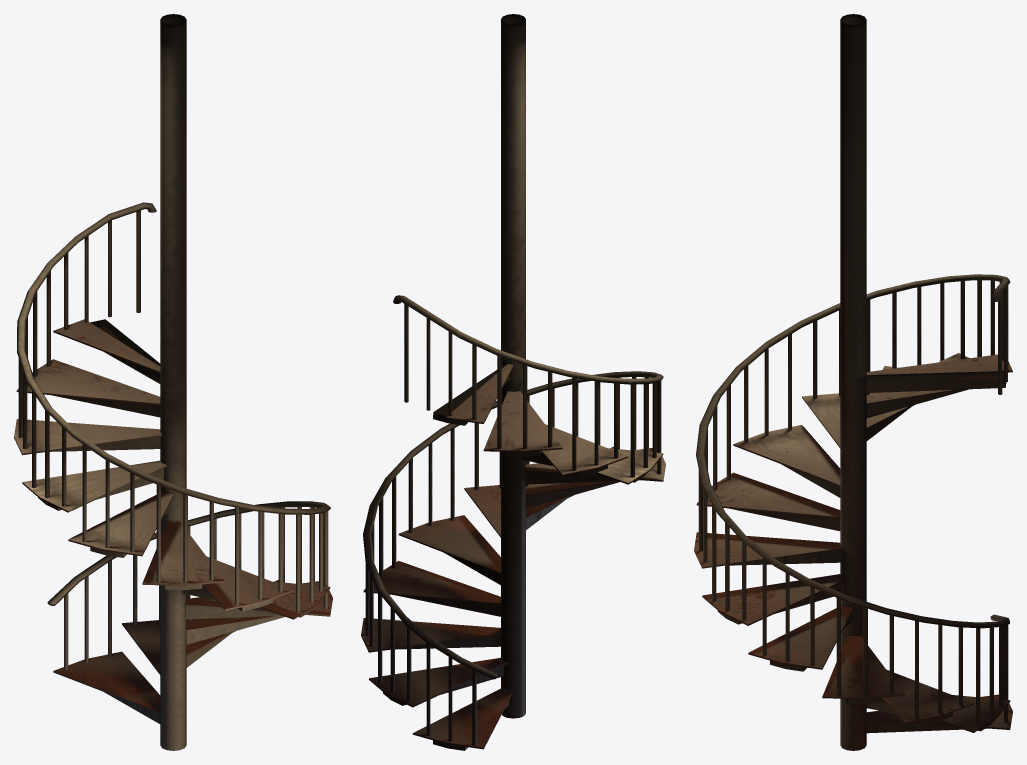
The model's file is spiralstaircase.obj.
The picture shows the model from 3 angles, left to right: view 1: azimuth 30°, elevation 25°; view 2: azimuth 150°, elevation 25°; view 3: azimuth 270°, elevation 25°; orthographic projection. The views are drawn at different scales.
Parts seen in each view (by area): view 1: spiralstaircase3 group5; view 2: spiralstaircase3 group5; view 3: spiralstaircase3 group5.
Boxes of the visible parts, x1,y1,x2,y2 form: spiralstaircase3 group5: [14, 14, 332, 750]; spiralstaircase3 group5: [361, 14, 665, 750]; spiralstaircase3 group5: [694, 14, 1012, 750].
Bounding box in the file's own units: 2.54 × 6.39 × 2.54.
Materials: 1 (1 with a texture image).
